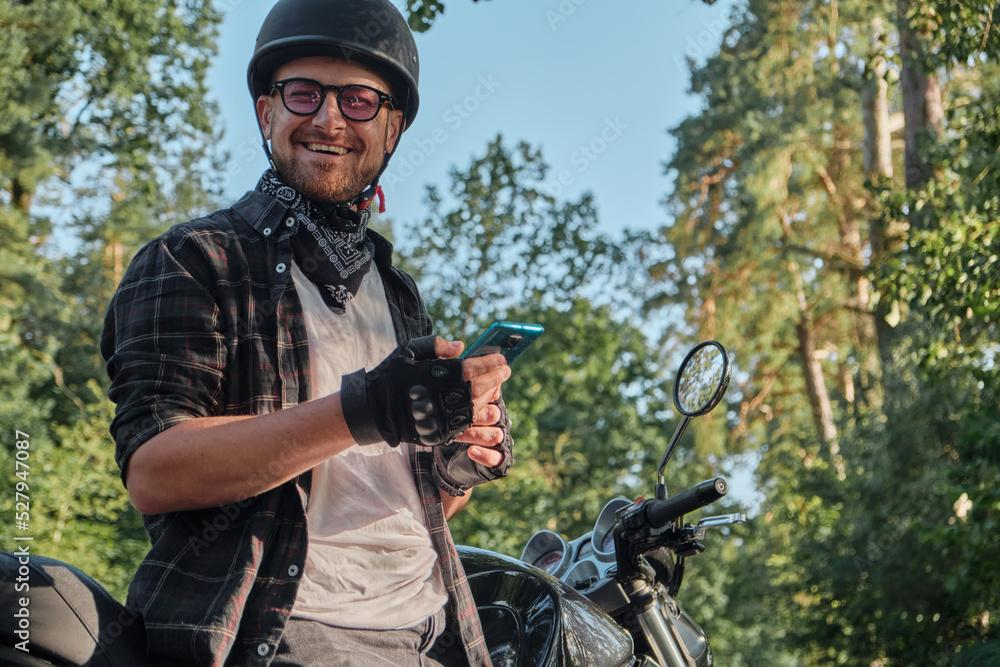helmet: (246, 0, 421, 234)
